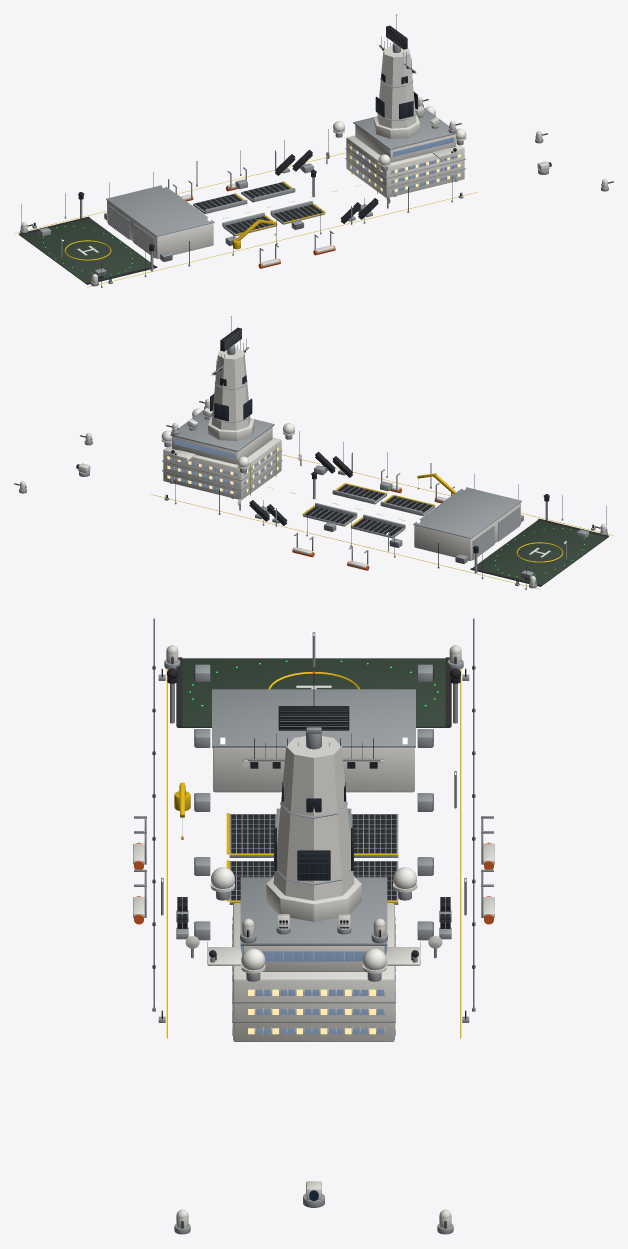
The model's file is topside.glb.
The picture shows the model from 3 angles, top to bottom: view 1: azimuth 30°, elevation 25°; view 2: azimuth 150°, elevation 25°; view 3: azimuth 270°, elevation 25°; orthographic projection. The views are drawn at different scales.
Visible parts, largest first — view 1: hangar, helideck, island, mast, bridge, vls, canisters, vents, deckmarks, boats, aesa, ciws (+3 smaller); view 2: hangar, helideck, island, vls, mast, bridge, canisters, vents, deckmarks, boats, aesa, ciws (+3 smaller); view 3: hangar, island, mast, helideck, bridge, vls, vents, satcom, lrradar, hf_whips, boats, ciws (+4 smaller).
Boxes of the visible parts, x1=… form: hangar: x1=106, y1=184, x2=214, y2=258; helideck: x1=19, y1=216, x2=157, y2=284; island: x1=345, y1=135, x2=465, y2=197; mast: x1=373, y1=46, x2=419, y2=138; bridge: x1=353, y1=108, x2=458, y2=162; vls: x1=193, y1=181, x2=325, y2=236; canisters: x1=275, y1=149, x2=378, y2=223; vents: x1=38, y1=163, x2=366, y2=277; deckmarks: x1=14, y1=152, x2=477, y2=287; boats: x1=173, y1=167, x2=335, y2=268; aesa: x1=375, y1=72, x2=417, y2=119; ciws: x1=20, y1=97, x2=613, y2=286; hangar: x1=413, y1=486, x2=521, y2=560; helideck: x1=470, y1=518, x2=608, y2=586; island: x1=162, y1=437, x2=282, y2=499; vls: x1=302, y1=483, x2=435, y2=538; mast: x1=208, y1=348, x2=254, y2=440; bridge: x1=169, y1=410, x2=274, y2=464; canisters: x1=249, y1=451, x2=352, y2=525; vents: x1=261, y1=465, x2=589, y2=579; deckmarks: x1=150, y1=454, x2=613, y2=589; boats: x1=292, y1=469, x2=454, y2=570; aesa: x1=210, y1=374, x2=252, y2=421; ciws: x1=14, y1=399, x2=607, y2=588; hangar: x1=212, y1=689, x2=415, y2=792; island: x1=232, y1=903, x2=395, y2=1041; mast: x1=266, y1=736, x2=361, y2=921; helideck: x1=176, y1=657, x2=451, y2=727; bridge: x1=207, y1=877, x2=420, y2=971; vls: x1=226, y1=808, x2=398, y2=904; vents: x1=194, y1=664, x2=433, y2=940; satcom: x1=210, y1=867, x2=417, y2=981; lrradar: x1=278, y1=706, x2=349, y2=749; hf_whips: x1=152, y1=618, x2=475, y2=1011; boats: x1=133, y1=816, x2=494, y2=924; ciws: x1=164, y1=645, x2=463, y2=1234.
Bounding box in the file's own units: 242 × 84.85 × 71.6.
